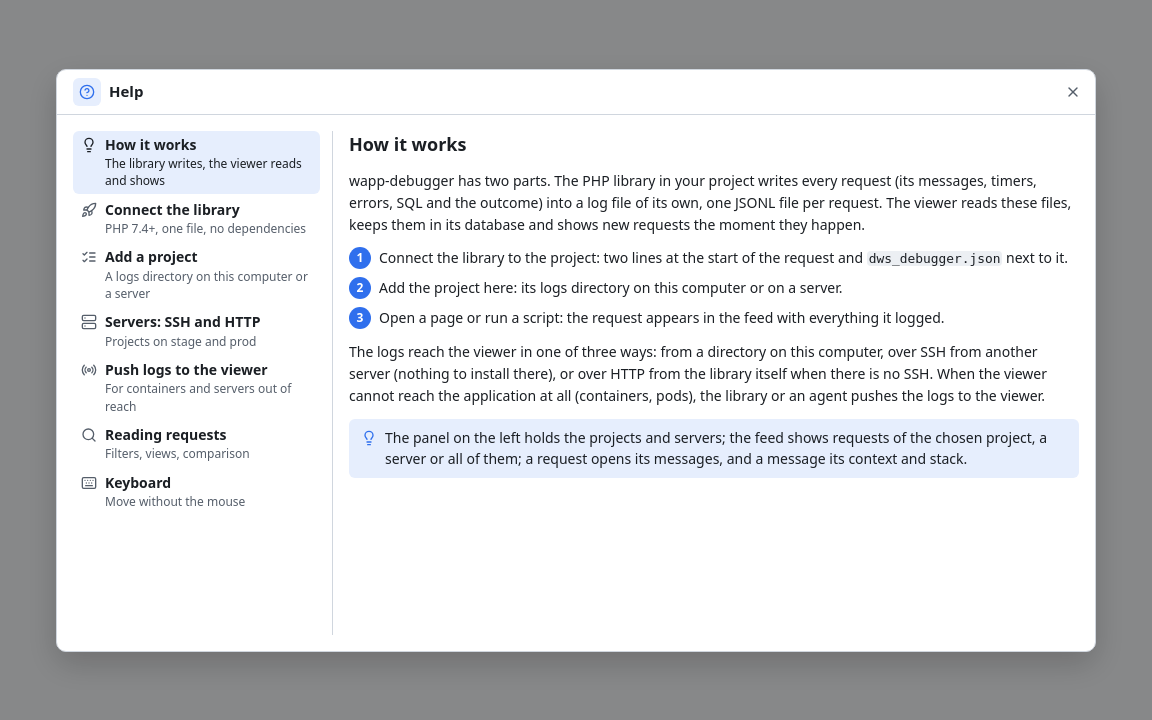
Test: HelpDialog › opens on how it works and goes through the topics
The image size is (1152, 720).
Expected: the heading "How it works" is shown, [349,132,466,156]
Click the button "Servers: SSH and HTTP Projects on stage and prod".
click(196, 331)  # box [73,308,320,354]
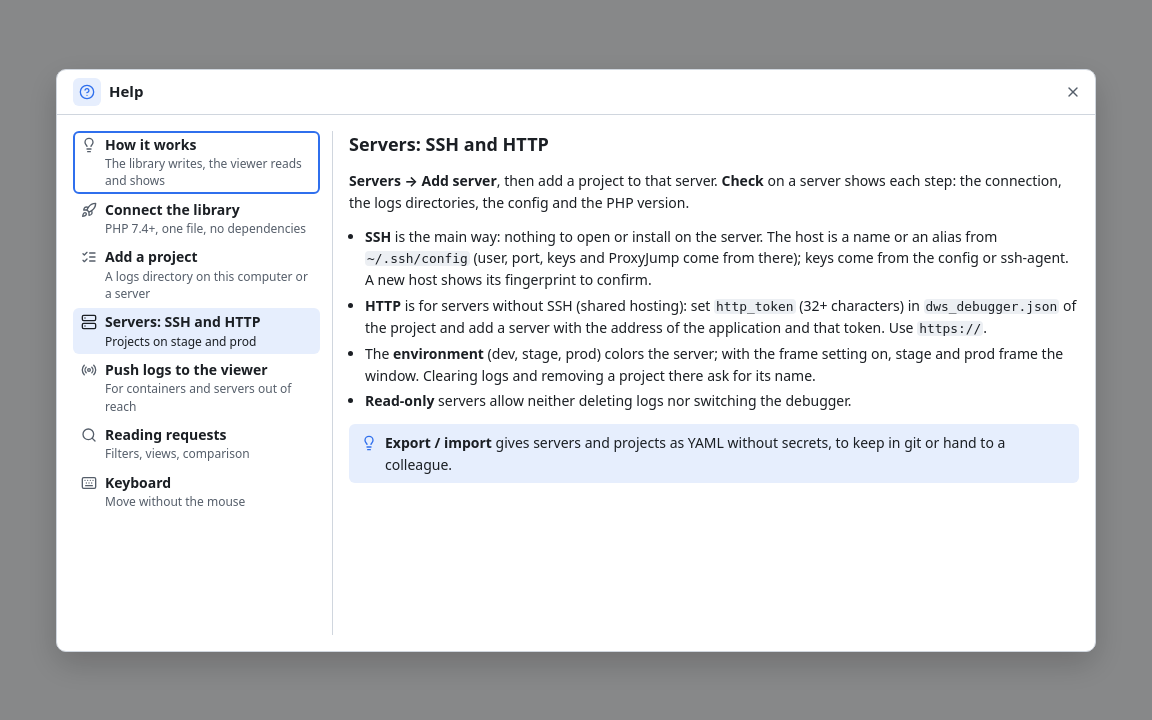
Now the heading "Servers: SSH and HTTP" is shown, box [349,132,549,156]
